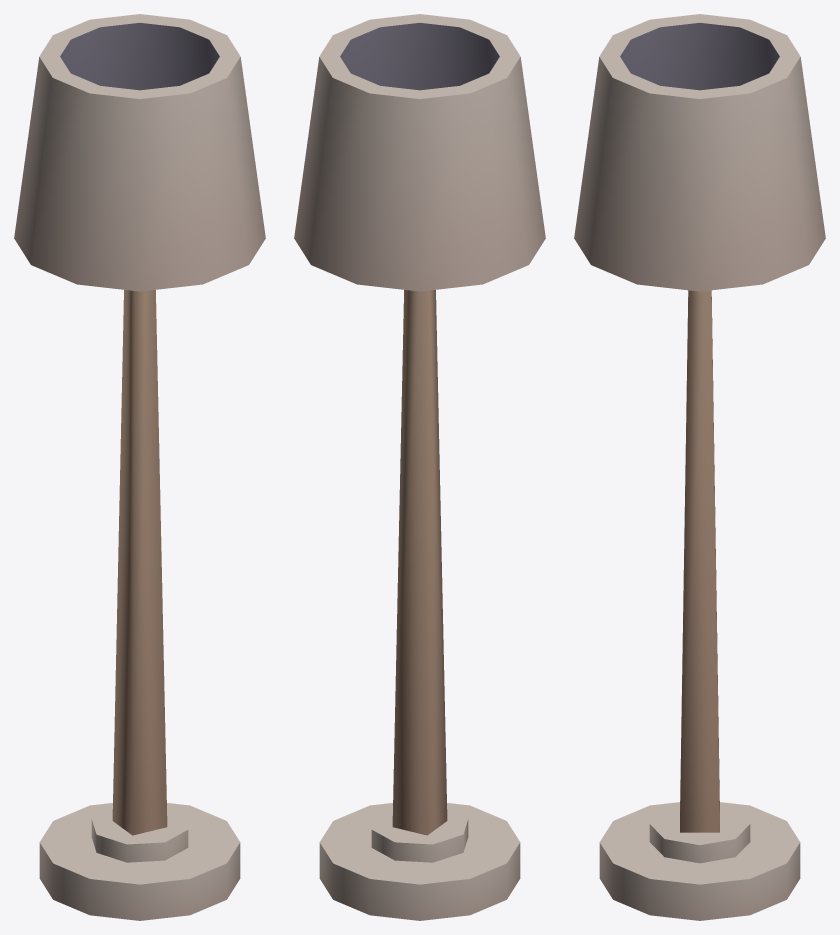
Rendered from lamp-retro-standing.glb.
3 renders of one model, left to right at view 1: azimuth 30°, elevation 25°; view 2: azimuth 150°, elevation 25°; view 3: azimuth 270°, elevation 25°, orthographic.
Visible parts, largest first — view 1: lamp-retro-standing; view 2: lamp-retro-standing; view 3: lamp-retro-standing.
Boxes of the visible parts, x1,y1,x2,y2 form: lamp-retro-standing: (14, 14, 265, 920); lamp-retro-standing: (294, 14, 545, 920); lamp-retro-standing: (574, 14, 825, 920).
Size of the model in its own units: 0.3136 by 1.13 by 0.3136.
